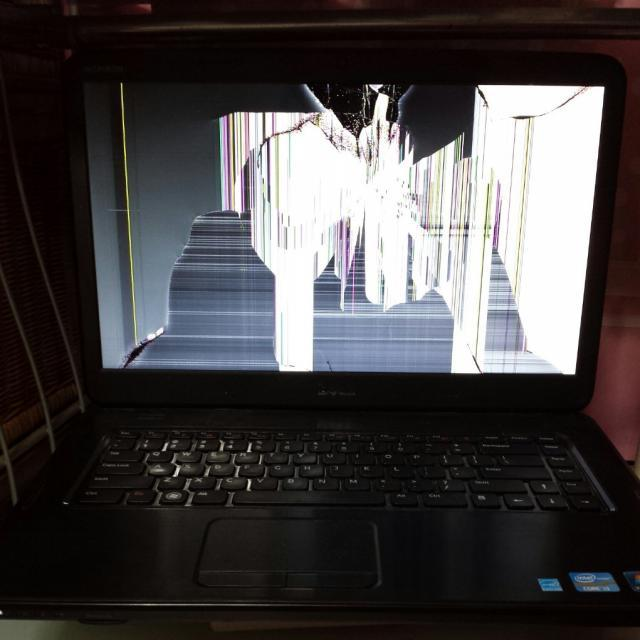Screen cracks: (94, 78, 586, 370)
